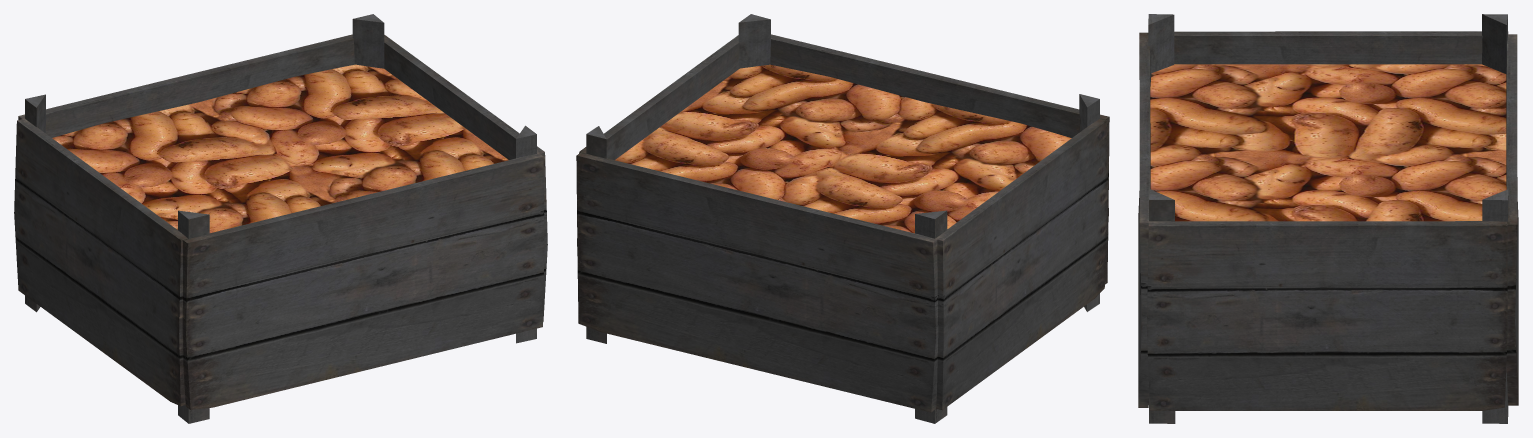
File: potatoebox01_LOD01.fbx
3 views of the same model, side by side, from view 1: azimuth 30°, elevation 25°; view 2: azimuth 150°, elevation 25°; view 3: azimuth 270°, elevation 25° (orthographic). The views are drawn at different scales.
Parts seen in each view (by area): view 1: Mesh Object; view 2: Mesh Object; view 3: Mesh Object.
Part boxes in pixels (x1,y1,x2,y2): Mesh Object: [14, 14, 547, 423]; Mesh Object: [576, 14, 1109, 423]; Mesh Object: [1138, 14, 1518, 423].
Size of the model in its own units: 0.6381 by 0.3394 by 0.5228.
